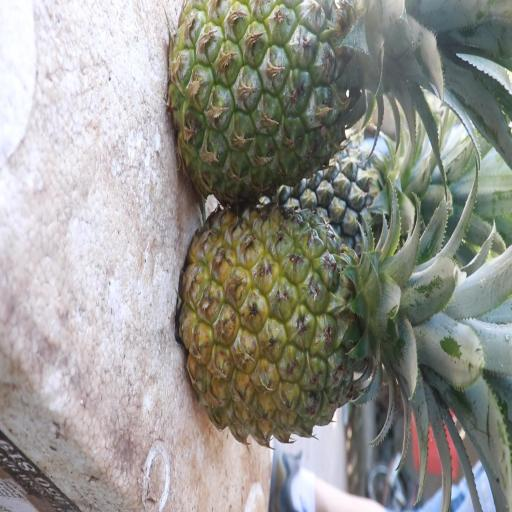------------------------------: (166, 0, 403, 197)
Pineapple - v8 v1: (181, 194, 420, 448)
